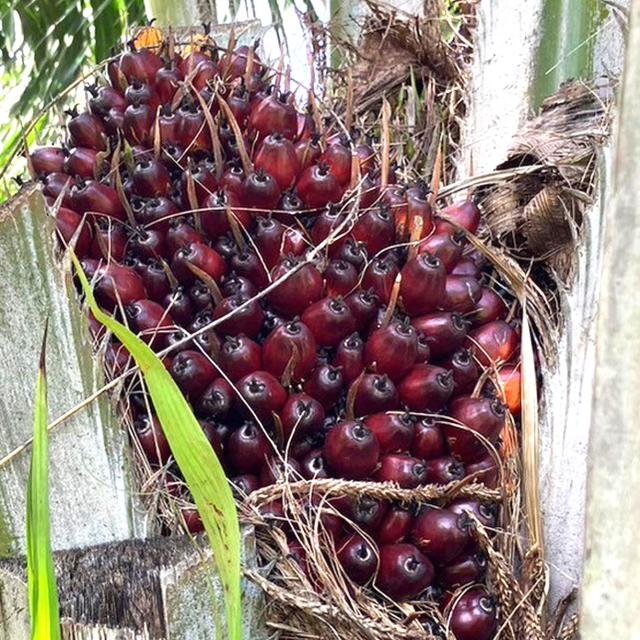ripe: (20, 44, 513, 640)
